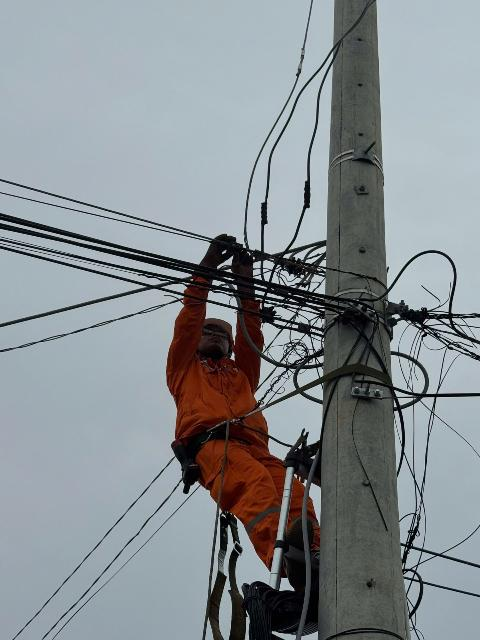gloves: (182, 222, 236, 282), (230, 249, 262, 295)
harness: (155, 420, 292, 474)
helmet: (192, 304, 241, 349)
shoes: (272, 516, 321, 586)
